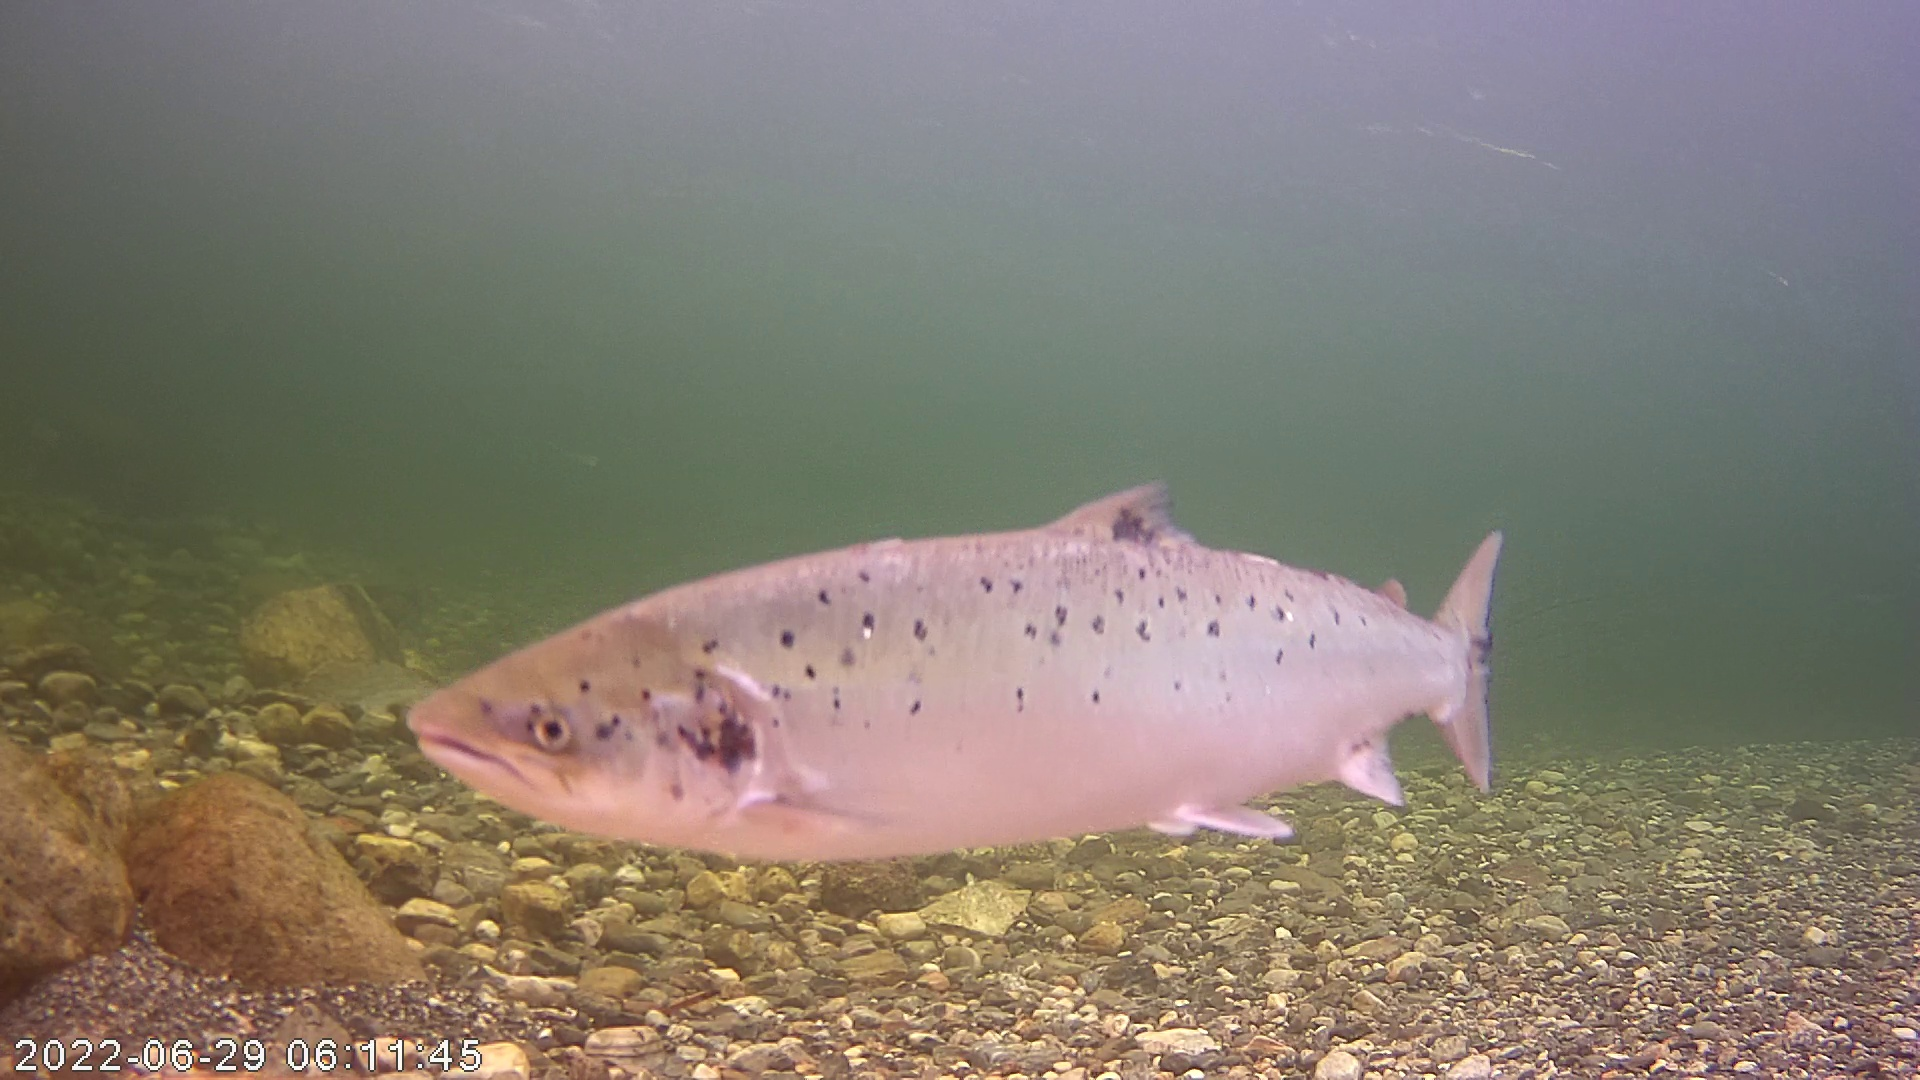salmon: (440, 367, 1511, 864)
